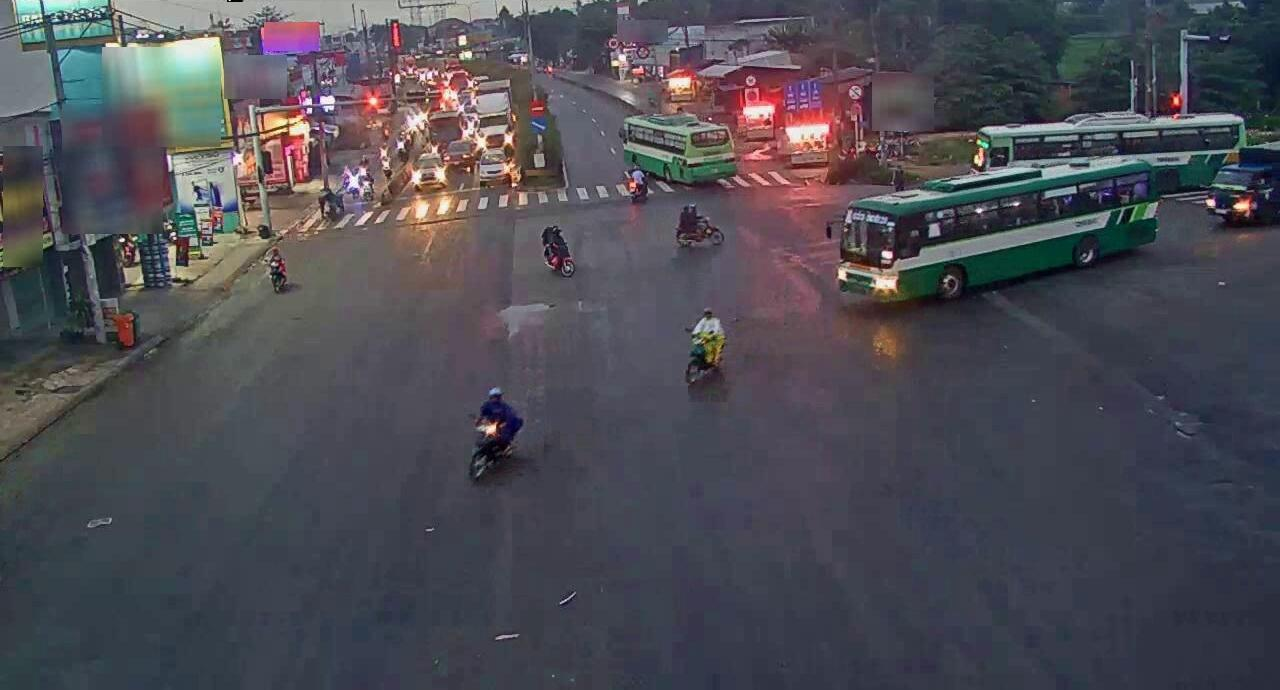xe may: (466, 386, 523, 482), (682, 307, 724, 391), (667, 203, 716, 247), (540, 227, 577, 282), (265, 244, 289, 293)
